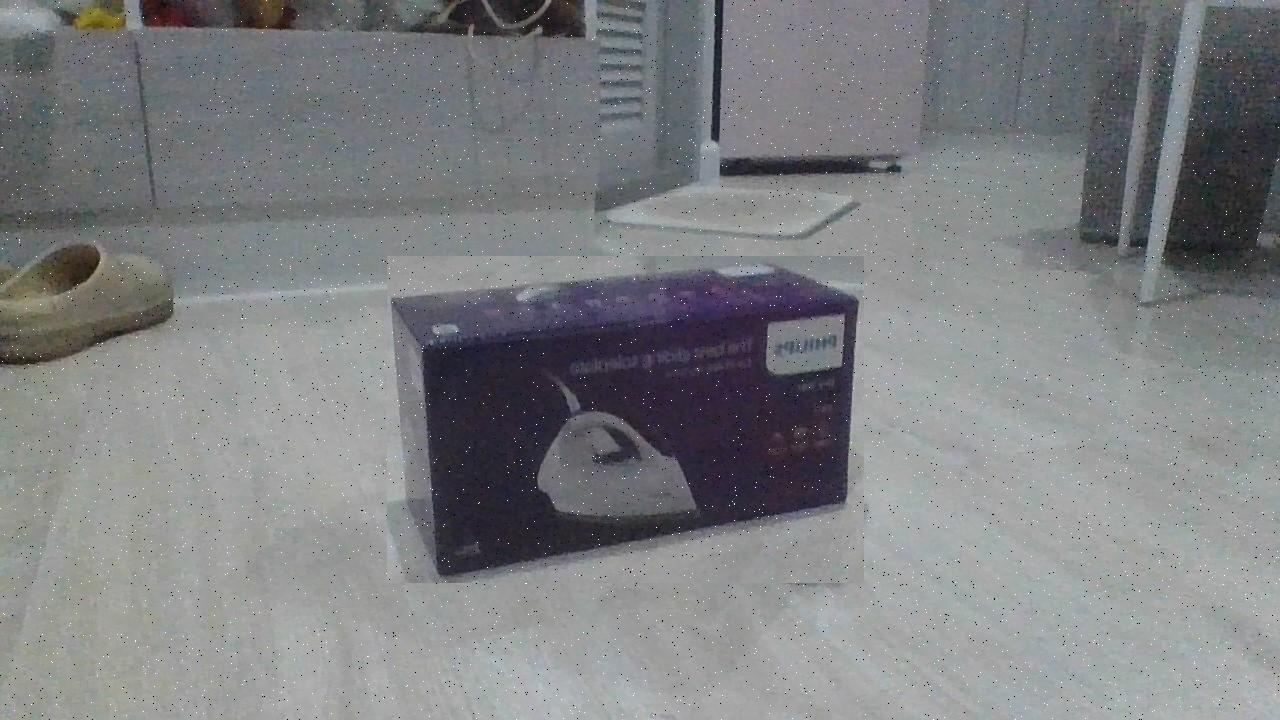IRON: (387, 256, 864, 583)
